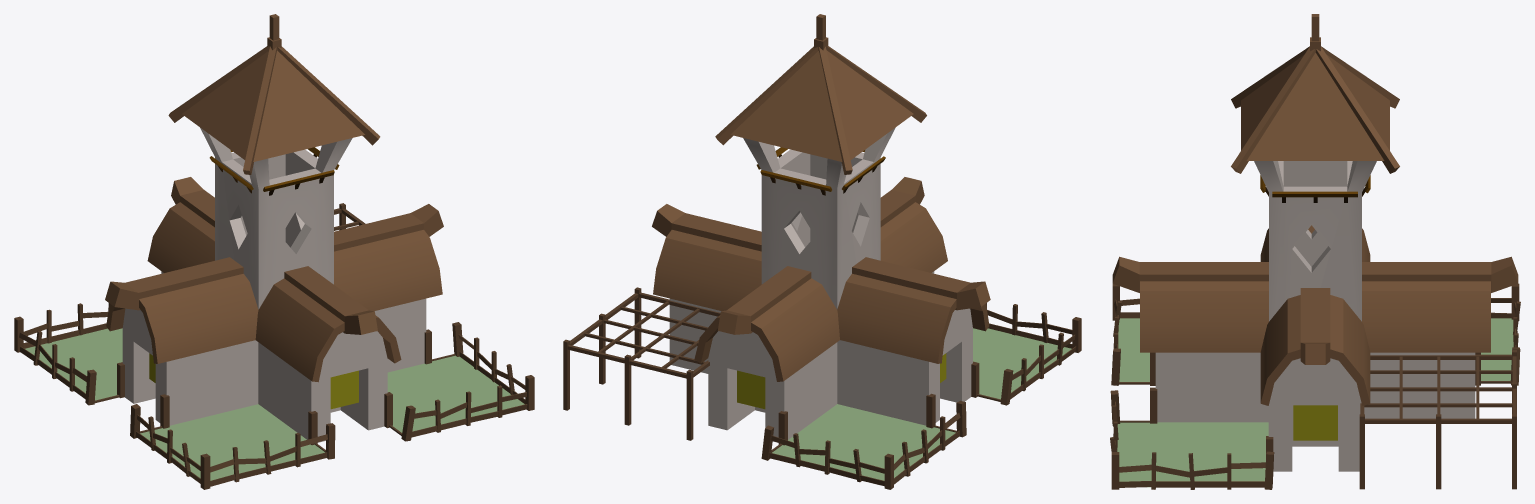
Rendered from Farm_v1.fbx.
3 views of the same model, side by side, from view 1: azimuth 30°, elevation 25°; view 2: azimuth 150°, elevation 25°; view 3: azimuth 270°, elevation 25° (orthographic). The views are drawn at different scales.
Parts seen in each view (by area): view 1: pCube10 (×4), pCube12 (×3), Soil (×3), pCube9, pCube11, pCube4 (×4), pCube14, pCube15, Curtain_LRes2, pCube16; view 2: pCube10 (×4), pCube12 (×3), pCube9, pCube11, Soil (×2), pCube4 (×4), pCube17, pCube16, Curtain_LRes2, pCube15, pCube67, pCube65; view 3: pCube10 (×3), pCube12 (×3), pCube9, Soil (×3), pCube11, pCube4 (×3), Curtain_LRes2, pCube14, pCube17, pCube66, pCube69, pCube73 (+7 smaller).
Part boxes in pixels (left/top/right/bottom): pCube10 (×4): left=106, top=202, right=442, bottom=382; pCube12 (×3): left=122, top=298, right=426, bottom=442; Soil (×3): left=25, top=328, right=524, bottom=480; pCube9: left=200, top=127, right=352, bottom=309; pCube11: left=182, top=50, right=364, bottom=161; pCube4 (×4): left=105, top=177, right=443, bottom=334; pCube14: left=277, top=46, right=380, bottom=145; pCube15: left=243, top=46, right=276, bottom=174; Curtain_LRes2: left=330, top=370, right=358, bottom=409; pCube16: left=168, top=46, right=269, bottom=122; pCube10 (×4): left=653, top=202, right=989, bottom=381; pCube12 (×3): left=669, top=298, right=972, bottom=441; pCube9: left=743, top=127, right=895, bottom=309; pCube11: left=730, top=50, right=913, bottom=161; Soil (×2): left=772, top=328, right=1071, bottom=480; pCube4 (×4): left=652, top=177, right=990, bottom=334; pCube17: left=715, top=46, right=818, bottom=145; pCube16: left=819, top=46, right=852, bottom=174; Curtain_LRes2: left=737, top=370, right=765, bottom=409; pCube15: left=826, top=46, right=926, bottom=122; pCube67: left=567, top=345, right=686, bottom=378; pCube65: left=686, top=369, right=693, bottom=440; pCube10 (×3): left=1140, top=281, right=1490, bottom=405; pCube12 (×3): left=1155, top=352, right=1475, bottom=471; pCube9: left=1254, top=161, right=1376, bottom=321; Soil (×3): left=1117, top=318, right=1513, bottom=487; pCube11: left=1241, top=53, right=1389, bottom=160; pCube4 (×3): left=1112, top=256, right=1518, bottom=364; Curtain_LRes2: left=1293, top=405, right=1337, bottom=440; pCube14: left=1231, top=47, right=1315, bottom=173; pCube17: left=1316, top=47, right=1399, bottom=173; pCube66: left=1365, top=418, right=1511, bottom=423; pCube69: left=1370, top=354, right=1511, bottom=359; pCube73: left=1364, top=403, right=1512, bottom=407.
Size of the model in its own units: 13.85 by 14.53 by 13.89.
